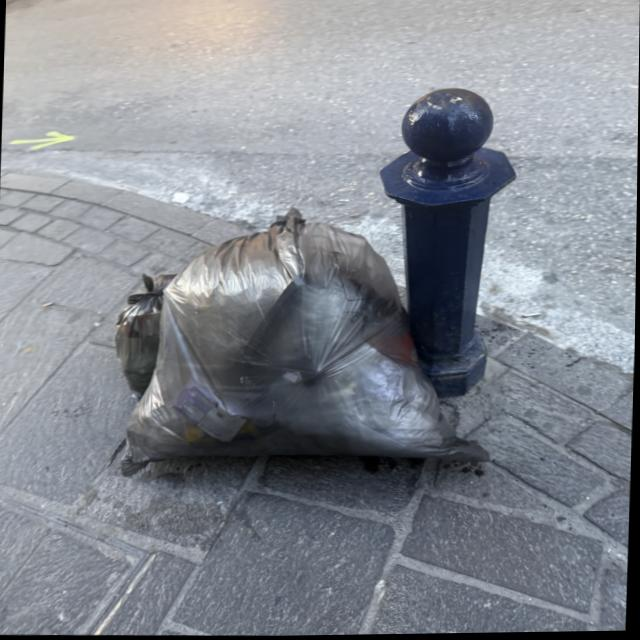Mixed Waste -Black Bags-: (112, 208, 487, 479)
